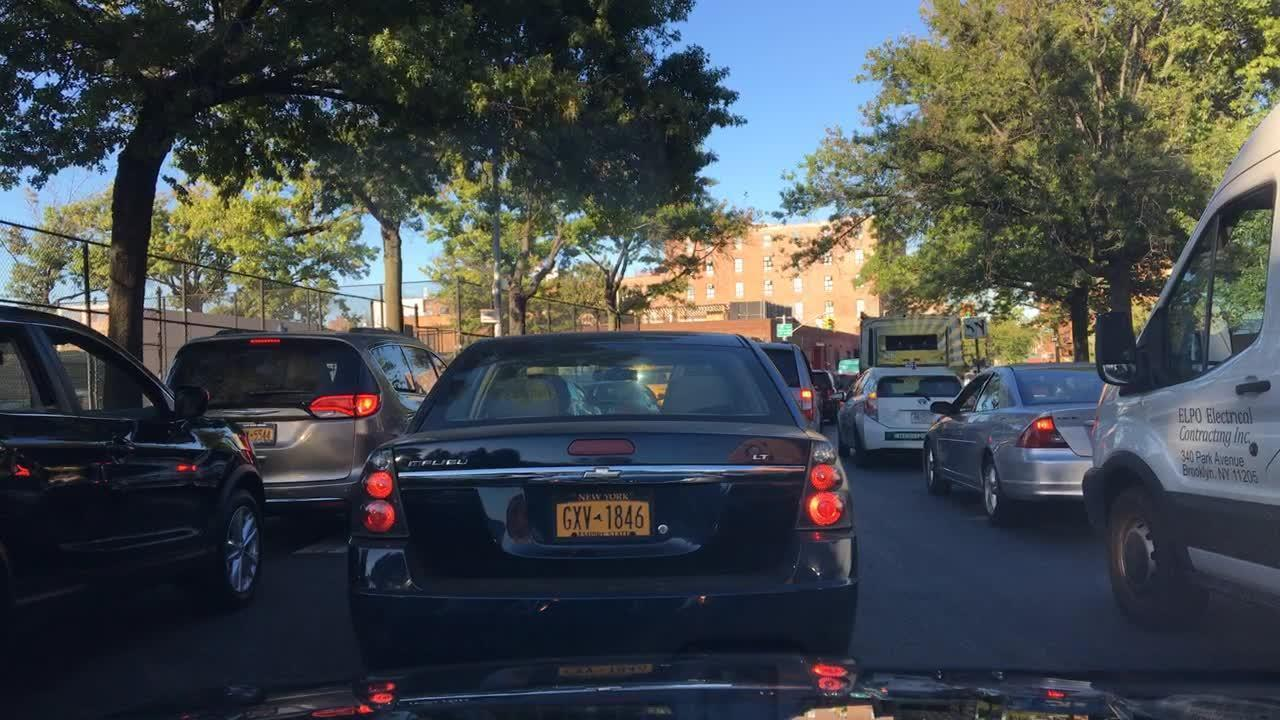Chrysler: (221, 407, 278, 417)
chevrolet: (573, 460, 630, 486)
